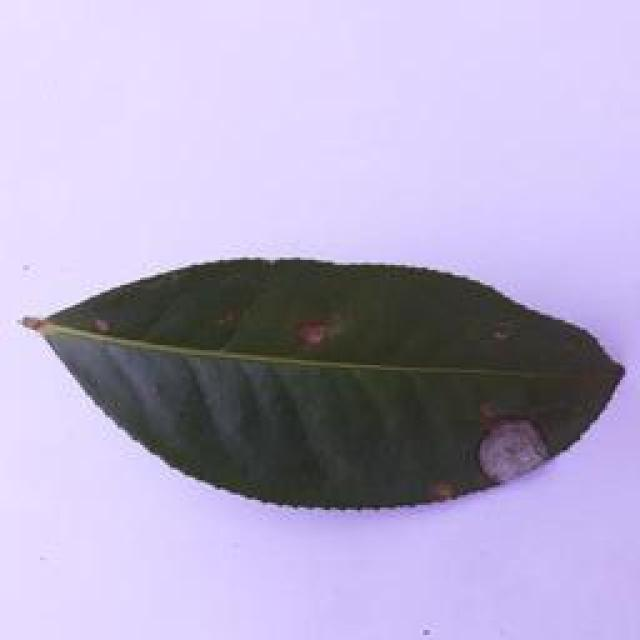Gray Blight: (19, 256, 626, 514)
